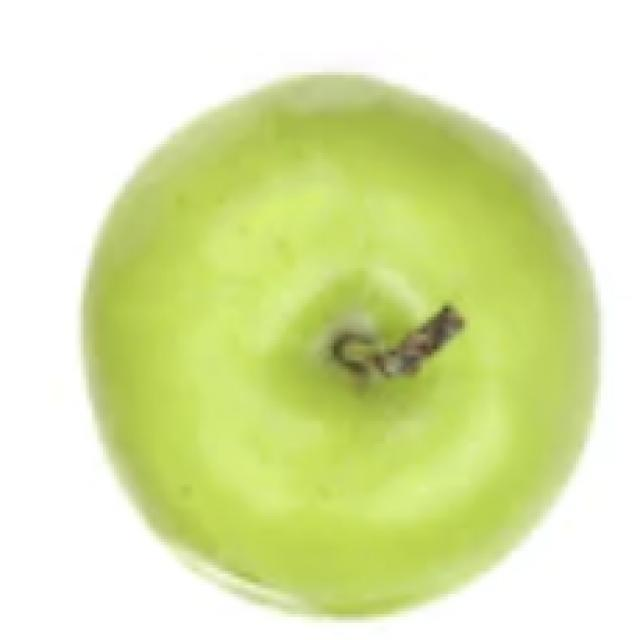Fresh Apple: (73, 67, 592, 610)
